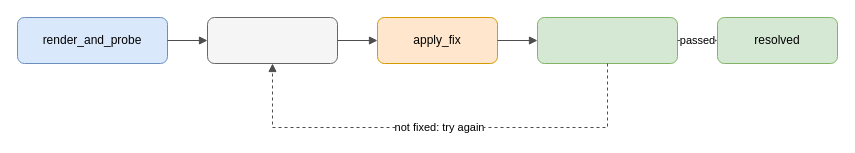
Some shapes in this 855 by 153 pixel diagram are drawn without their labels. The box of each missing label's shape, as (x1, y1, x2, y2) in pixels:
choose a fix: (206, 16, 338, 64)
verify (re-render): (536, 16, 678, 64)
